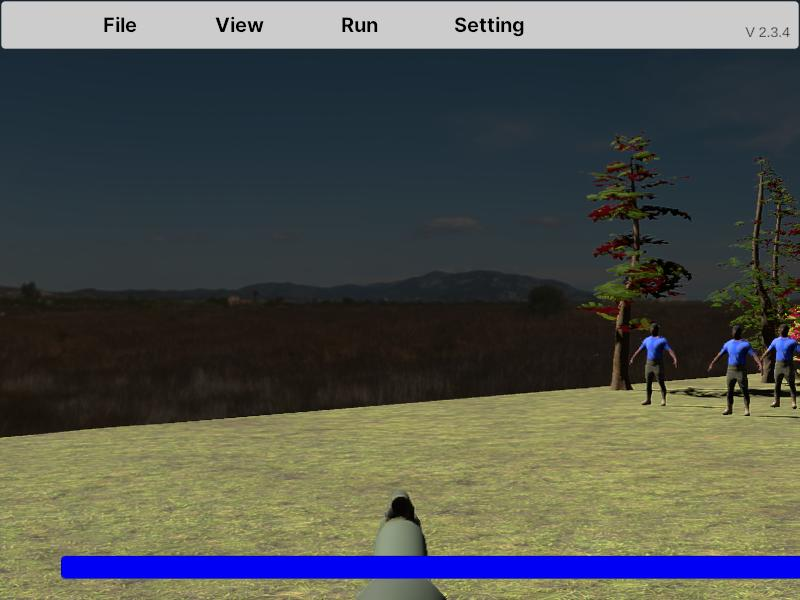Human: (708, 325, 762, 416), (629, 323, 677, 406), (760, 324, 800, 409), (761, 324, 800, 408), (789, 326, 800, 410)
